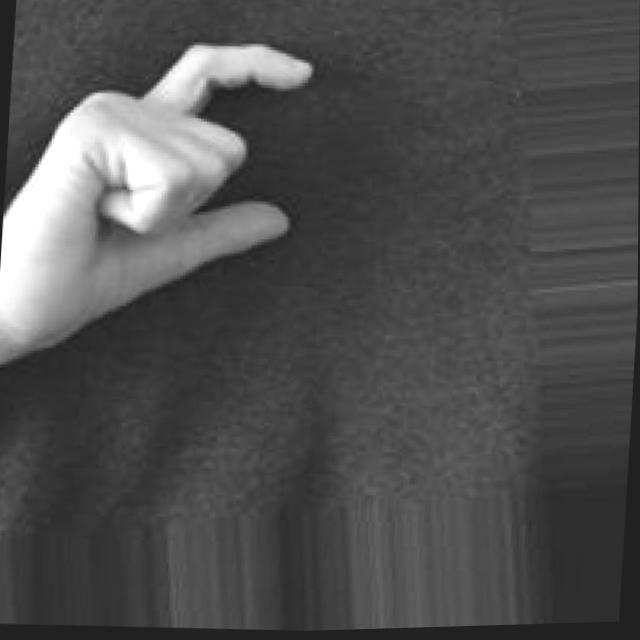C: (0, 27, 317, 392)
